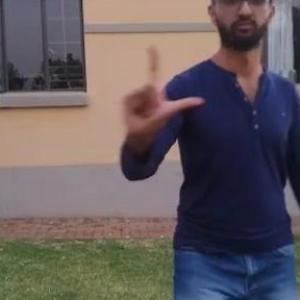land_hand: (117, 39, 207, 147)
